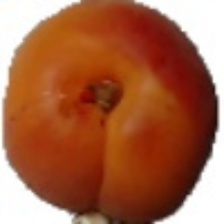apricot: (0, 15, 201, 183)
